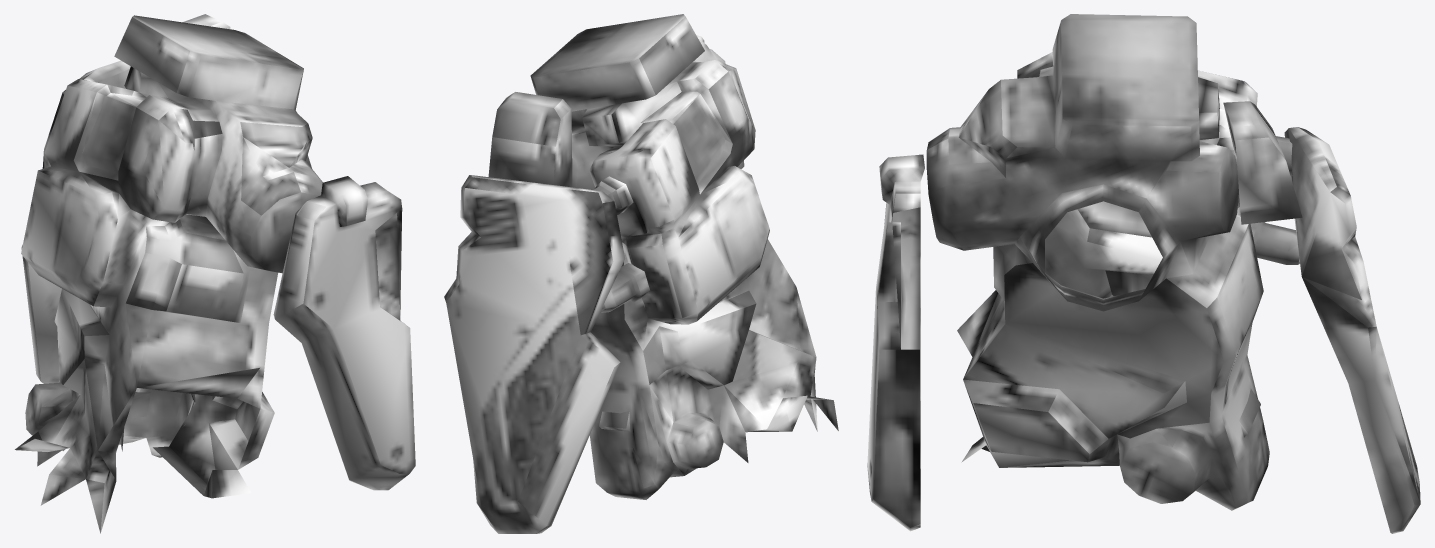
Rendered from r_thigh.glb.
3 views of the same model, side by side, from view 1: azimuth 30°, elevation 25°; view 2: azimuth 150°, elevation 25°; view 3: azimuth 270°, elevation 25° (orthographic). The views are drawn at different scales.
Parts seen in each view (by area): view 1: r_thigh; view 2: r_thigh; view 3: r_thigh.
Part boxes in pixels (x1,y1,x2,y2): r_thigh: (15,14,415,533); r_thigh: (444,14,838,533); r_thigh: (867,14,1420,533).
Size of the model in its own units: 0.7143 by 1.07 by 1.08.
3 materials, 3 textured.
